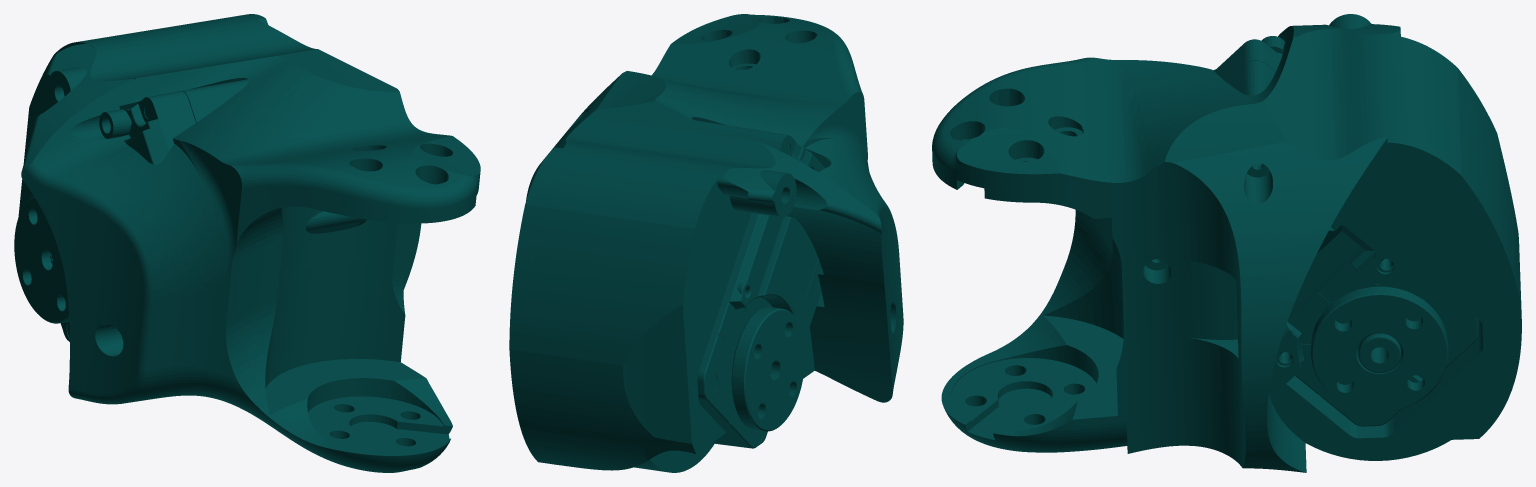
The model's file is leg_right_ankle_pitch_visuals.obj.
3 views of the same model, side by side, from view 1: azimuth 30°, elevation 25°; view 2: azimuth 150°, elevation 25°; view 3: azimuth 270°, elevation 25° (orthographic). The views are drawn at different scales.
Size of the model in its own units: 0.0653 by 0.0539 by 0.0824.
